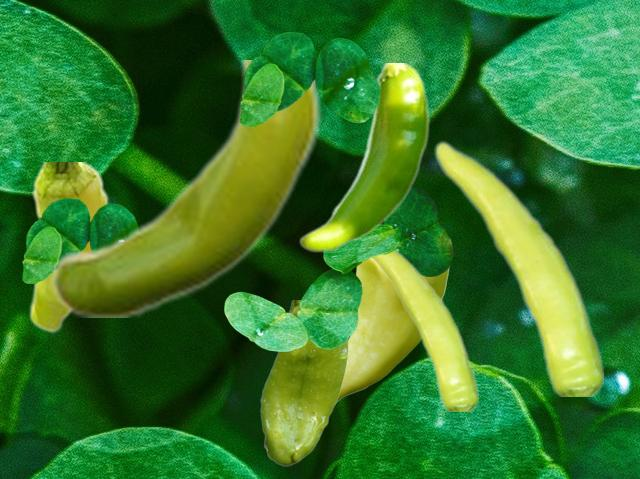green_chili: (48, 60, 324, 316), (434, 139, 602, 395), (298, 63, 429, 252), (371, 249, 477, 410), (338, 259, 449, 402), (260, 300, 347, 465), (28, 162, 108, 332)
